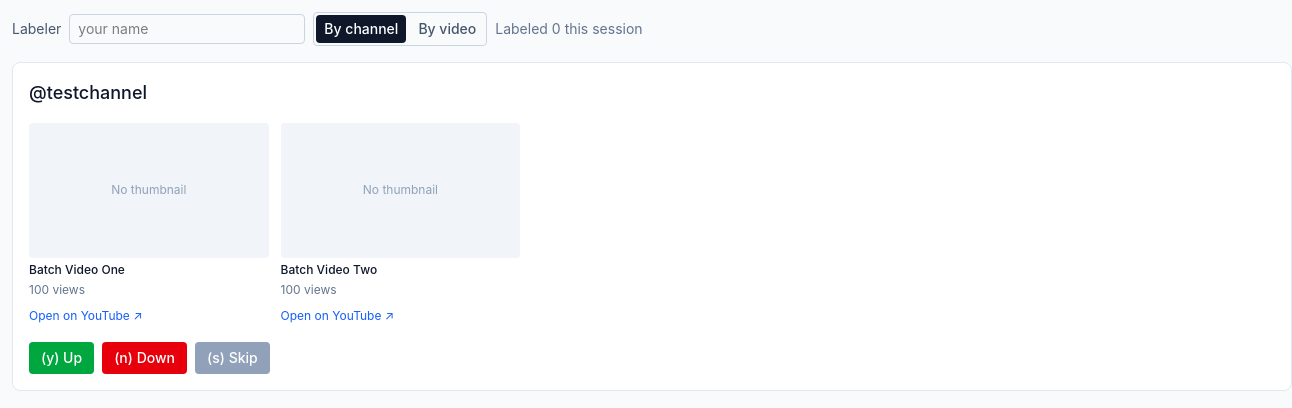
Test: LabelingPage - channel mode (default) › renders every video in the channel batch and posts one batch label for all of them
expect the text "Batch Video One" is shown: met, box [29,262,125,277]
expect the text "Batch Video Two" is shown: met, box [281,262,377,277]
Type "alice" into the field labelled "Labeler" at (187, 29), box [69,14,305,44]
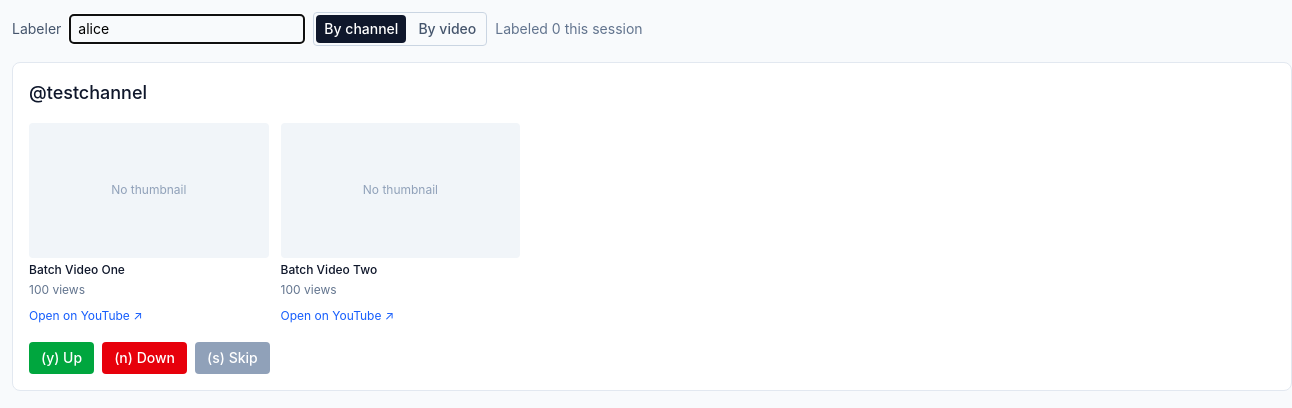
Click the button "(y) Up" at (62, 358), box [29,342,94,374]
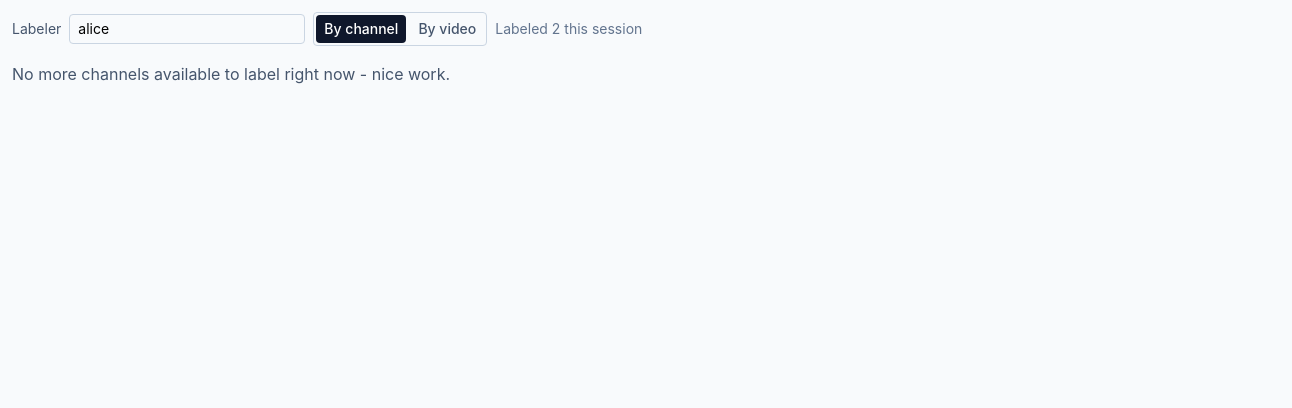
expect the text "No more channels available to label right now - nice work." is shown: met, box [12,64,450,84]
expect the text "Labeled 2 this session" is shown: met, box [495,19,642,39]
